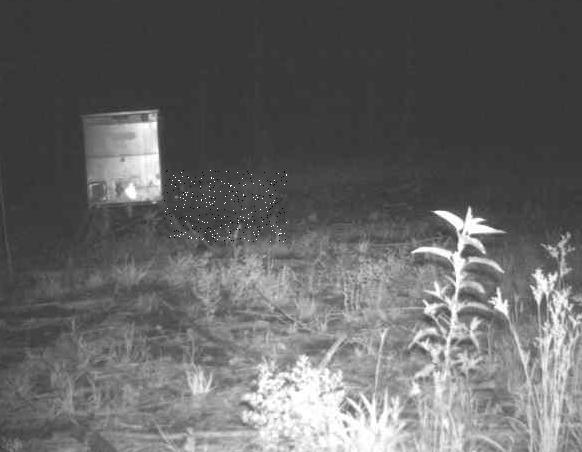Hog: (164, 171, 287, 243)
